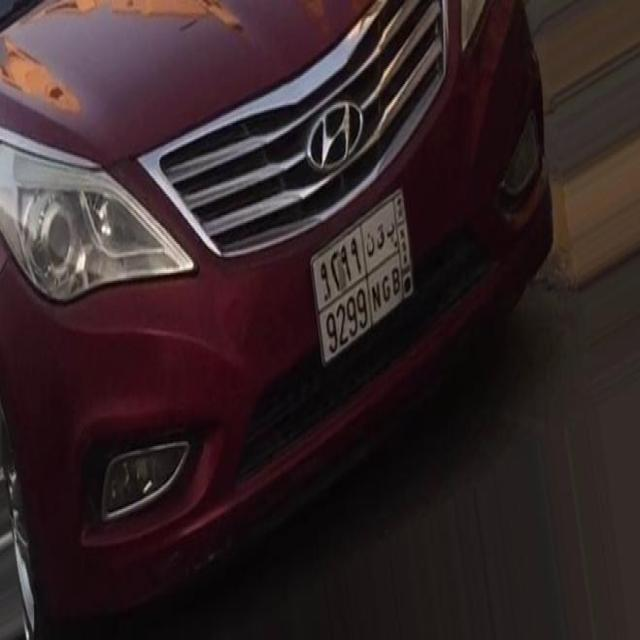Car-plate: (300, 165, 432, 394)
